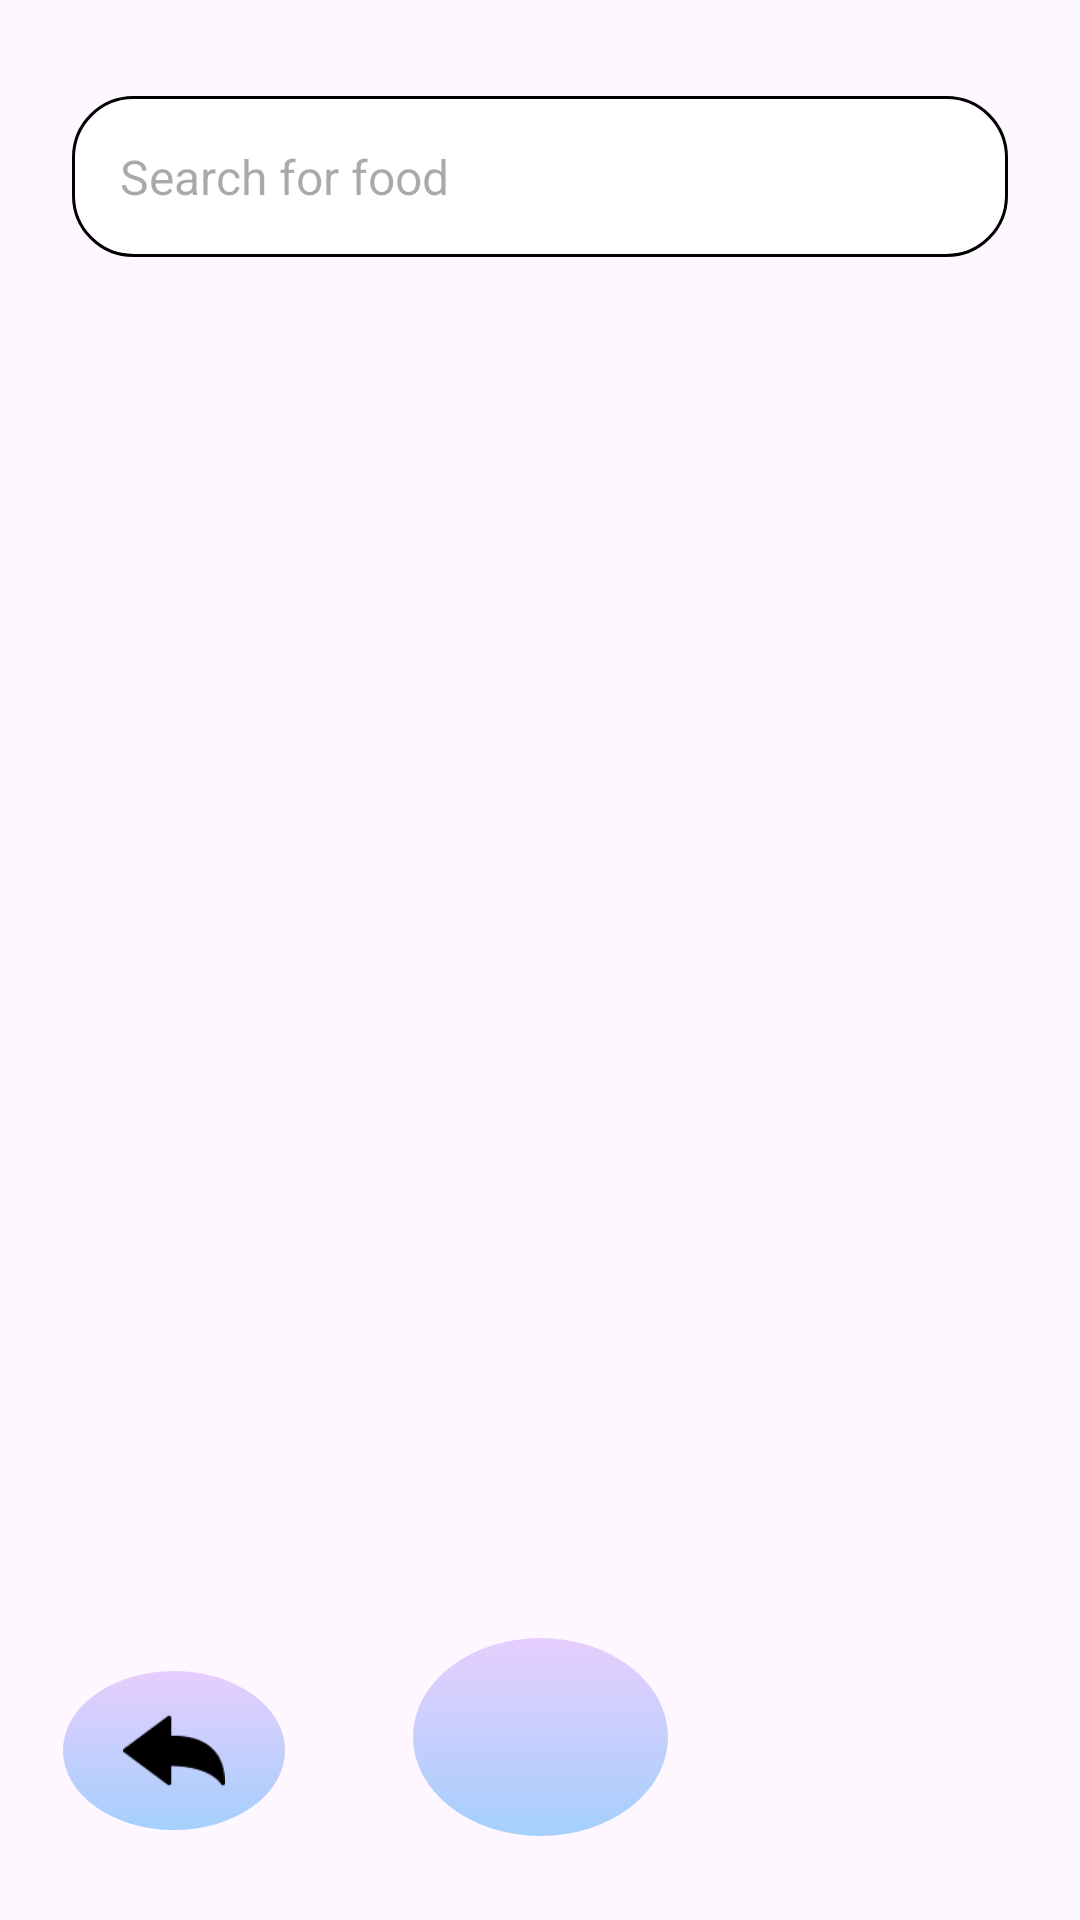

Icons on this 1080*1920 Android screen, each with the point to tap as [x,y]:
turn left: [174,1750]
